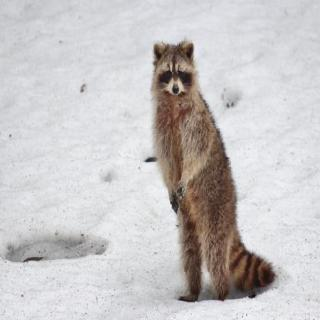raccoon: (138, 32, 277, 310)
